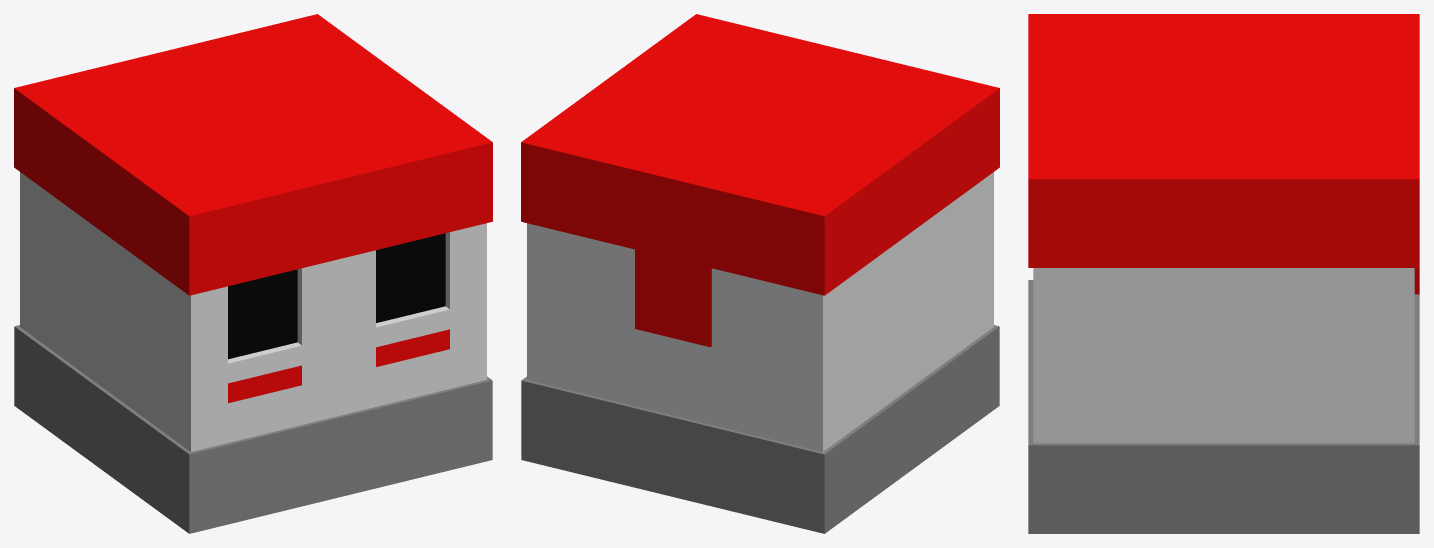
Rendered from Blood.fbx.
The picture shows the model from 3 angles, left to right: view 1: azimuth 30°, elevation 25°; view 2: azimuth 150°, elevation 25°; view 3: azimuth 270°, elevation 25°; orthographic projection. The views are drawn at different scales.
Visible parts, largest first — view 1: HeavensMandate-(Red); view 2: HeavensMandate-(Red); view 3: HeavensMandate-(Red).
Part boxes in pixels (x1,y1,x2,y2): HeavensMandate-(Red): (14, 14, 492, 533); HeavensMandate-(Red): (521, 14, 999, 533); HeavensMandate-(Red): (1028, 14, 1419, 533).
Bounding box in the file's own units: 200 × 200 × 200.
